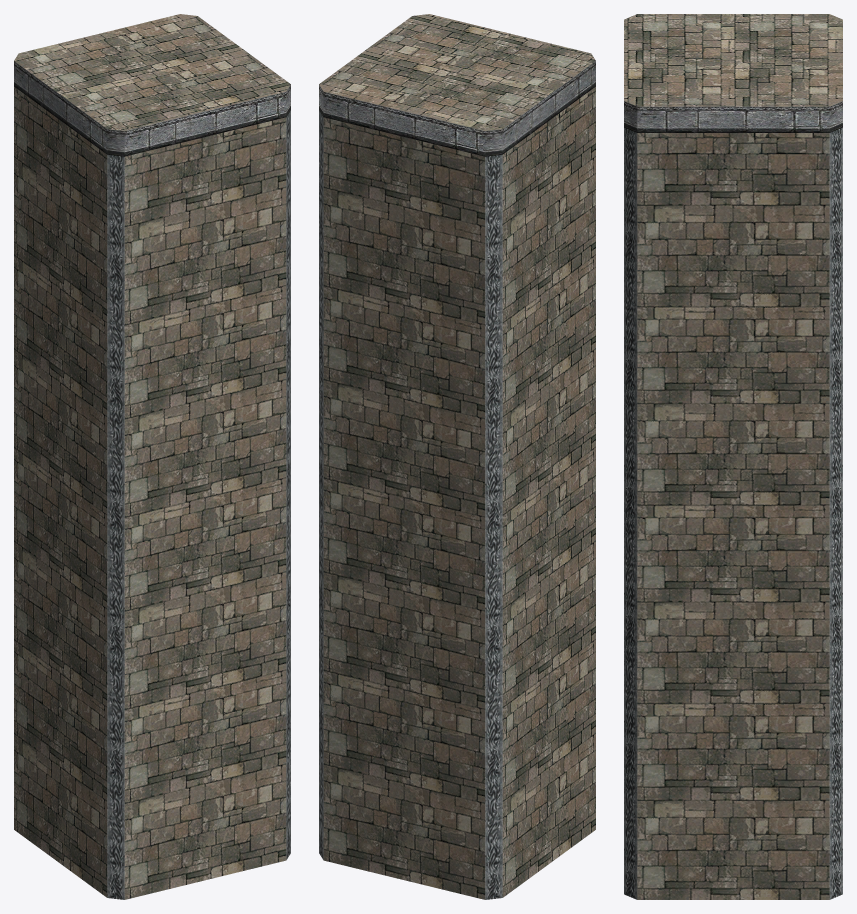
Rendered from S_dcr1.glb.
The picture shows the model from 3 angles, left to right: view 1: azimuth 30°, elevation 25°; view 2: azimuth 150°, elevation 25°; view 3: azimuth 270°, elevation 25°; orthographic projection. The views are drawn at different scales.
Visible parts, largest first — view 1: S_dcr1-col; view 2: S_dcr1-col; view 3: S_dcr1-col.
Part boxes in pixels (x1=…): S_dcr1-col: x1=14, y1=14, x2=290, y2=899; S_dcr1-col: x1=319, y1=14, x2=595, y2=899; S_dcr1-col: x1=624, y1=14, x2=842, y2=899.
Size of the model in its own units: 3 by 12 by 3.
Materials: 2 (2 with a texture image).
